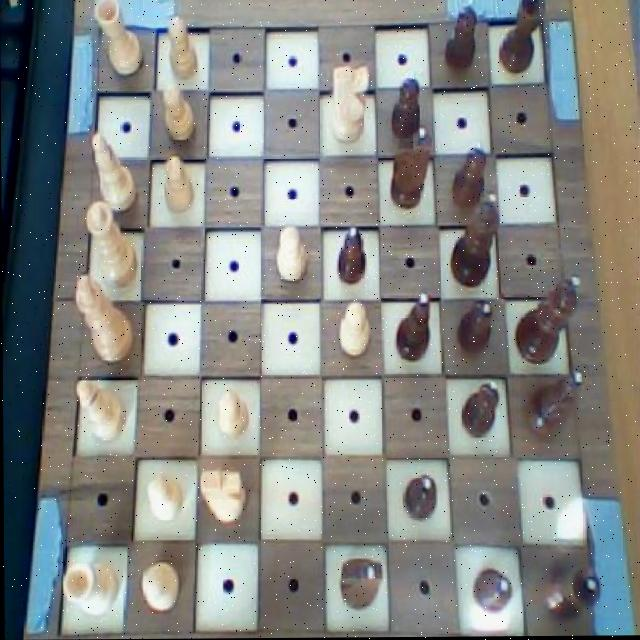bishop: (522, 366, 587, 445), (392, 290, 434, 363)
black-bishop: (512, 272, 585, 368)
black-king: (384, 128, 438, 215), (335, 552, 383, 612)
black-knight: (449, 136, 491, 216), (443, 3, 480, 79), (331, 219, 371, 289), (459, 379, 503, 442), (388, 76, 424, 147), (454, 296, 495, 357), (470, 566, 515, 614), (403, 473, 438, 524)
black-pawn: (444, 191, 502, 288)
black-queen: (495, 0, 553, 79), (538, 555, 602, 623)
black-rook: (83, 129, 140, 218), (70, 372, 129, 449)
white-bishop: (71, 272, 135, 371)
white-king: (327, 59, 375, 151), (197, 465, 251, 529)
white-knight: (136, 557, 182, 616), (141, 467, 186, 525), (212, 385, 252, 448), (274, 220, 311, 288), (166, 14, 202, 82), (159, 151, 195, 215), (160, 81, 196, 145), (335, 298, 371, 361)
white-pawn: (79, 196, 140, 293)
white-queen: (89, 0, 147, 81), (58, 555, 122, 619)
